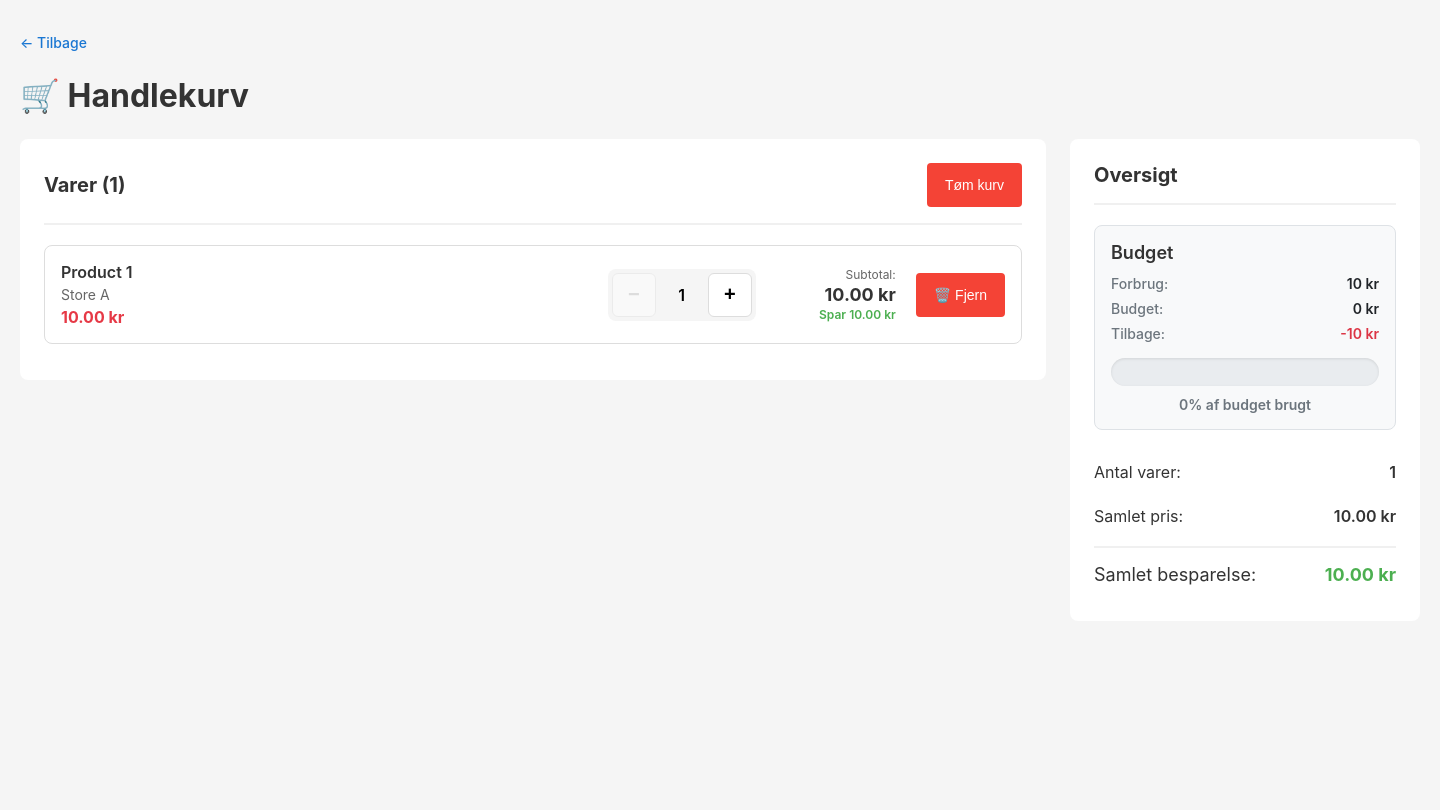
Test: Handlekurv › clears cart when confirmation dialog confirmed
Click the button "Tøm kurv" at (974, 185), box [927,163,1022,207]
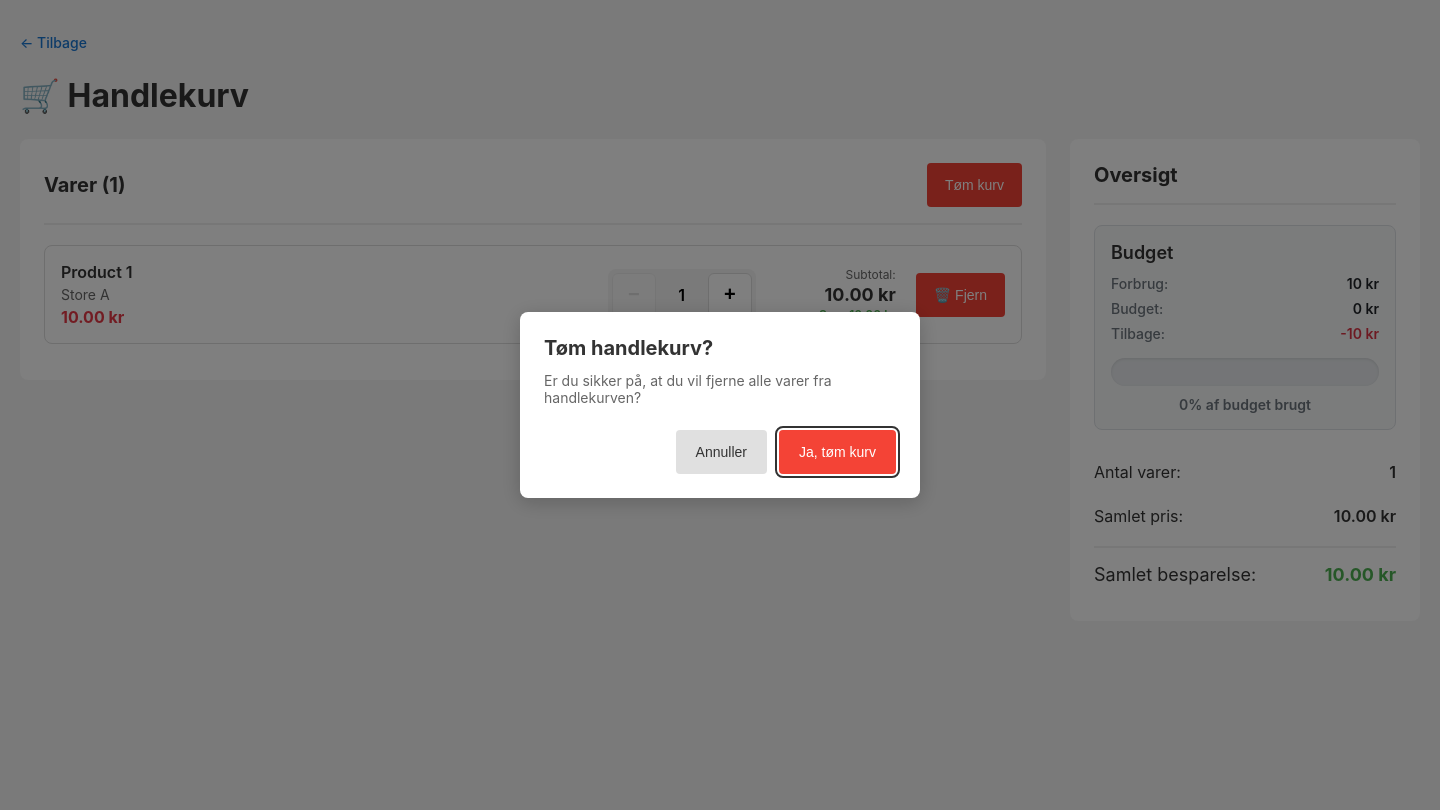
Click the button "Ja, tøm kurv" at (838, 452), box [779,430,896,474]
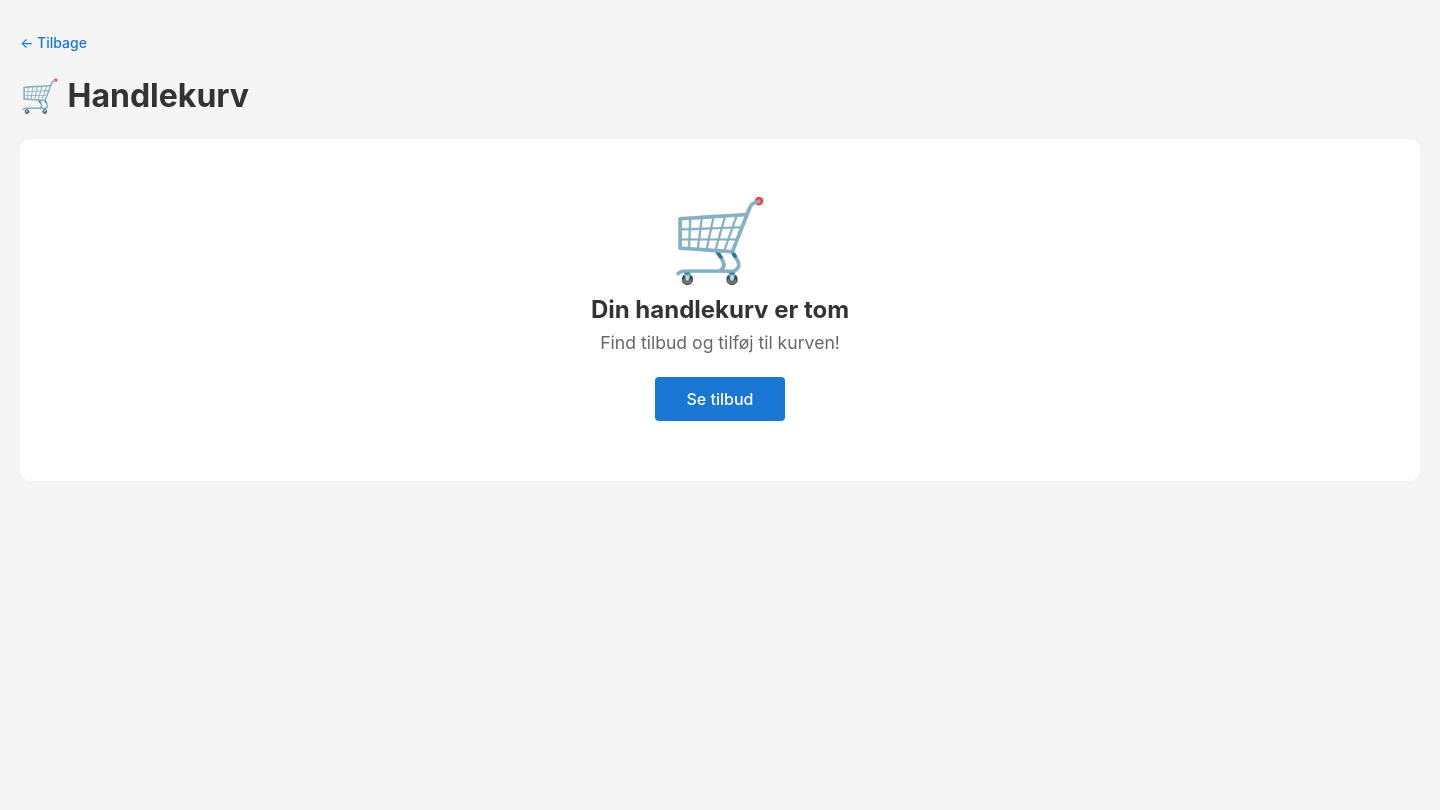
Expected: the heading "Din handlekurv er tom" is shown, [591,295,849,324]
